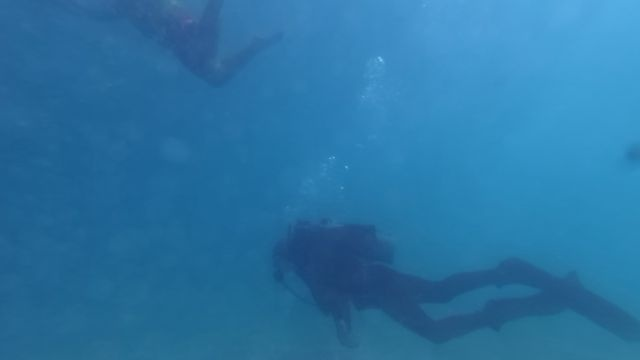Diver: (257, 211, 637, 355)
